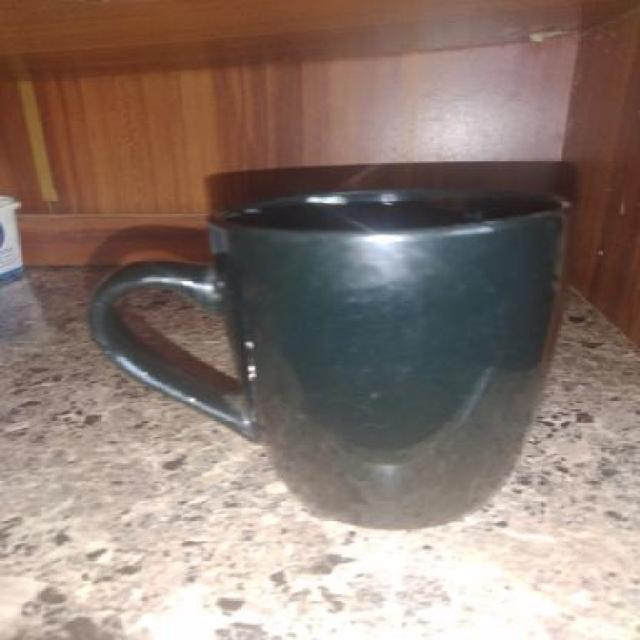cup: (79, 183, 595, 532)
